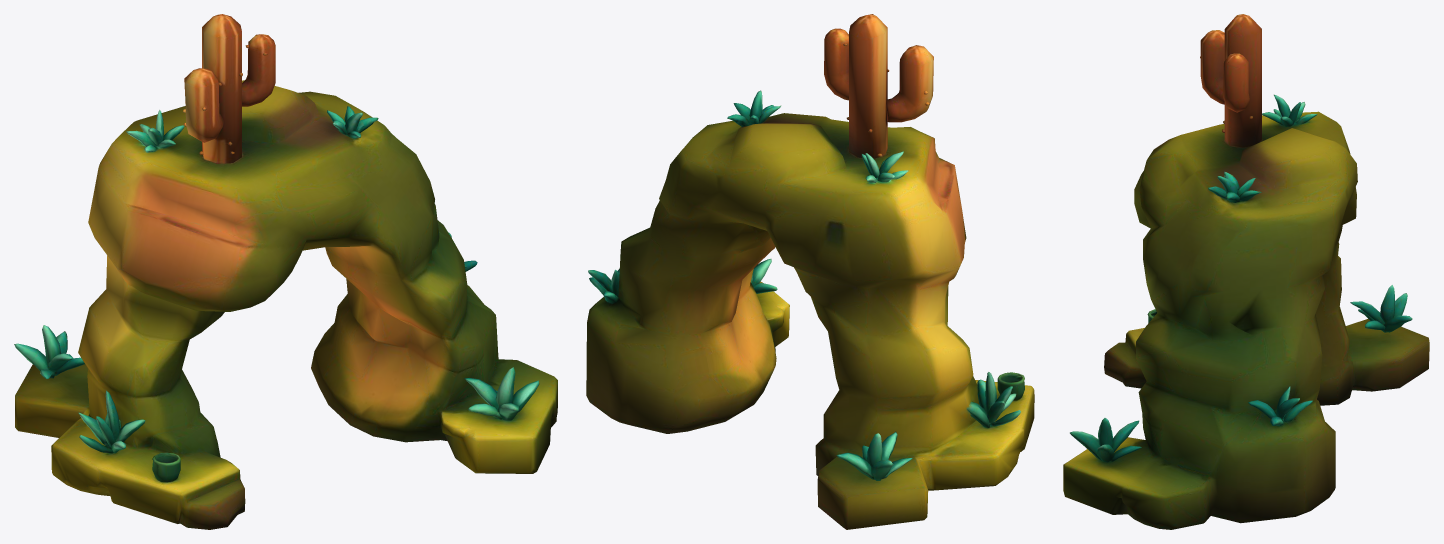
File: lm_arch.glb
3 renders of one model, left to right at view 1: azimuth 30°, elevation 25°; view 2: azimuth 150°, elevation 25°; view 3: azimuth 270°, elevation 25°, orthographic. The views are drawn at different scales.
Parts seen in each view (by area): view 1: Prop; view 2: Prop; view 3: Prop.
Part boxes in pixels (left/top/right/bottom): Prop: left=14, top=14, right=557, bottom=529; Prop: left=586, top=14, right=1034, bottom=529; Prop: left=1063, top=14, right=1429, bottom=529.
Bounding box in the file's own units: 0.998 × 0.9473 × 0.8066.
Materials: 1 (1 with a texture image).
